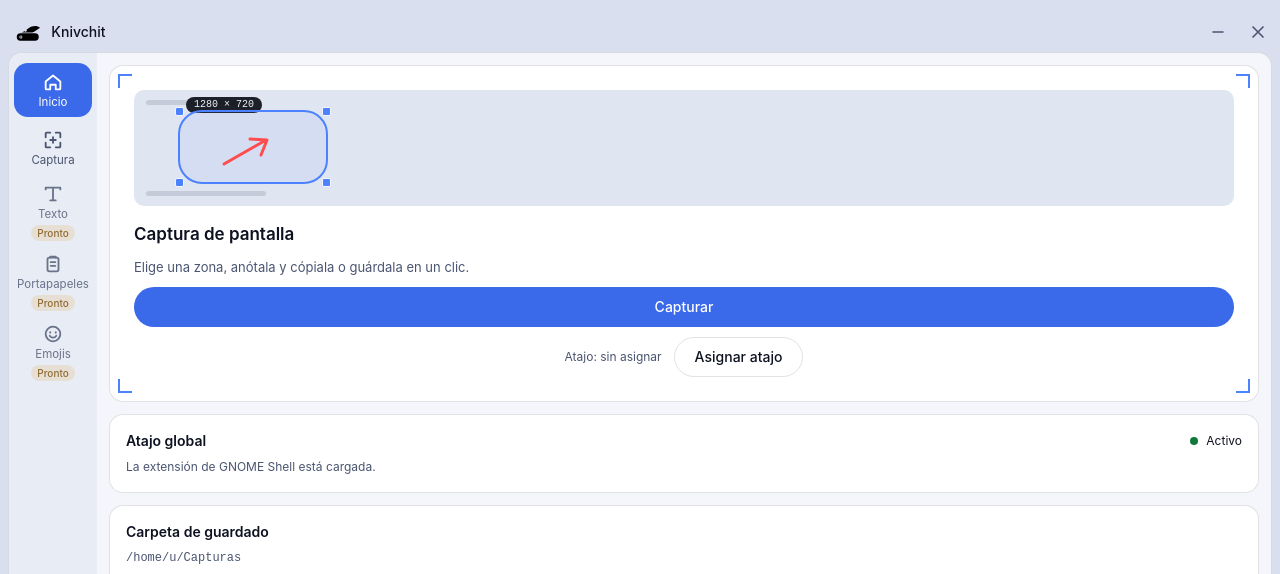
Test: permiso de captura — pulsar «Capturar» sin permiso › el rechazo «needs_permission» se explica con su aviso, no con el código
Click the button "Capturar": (684, 307) [134, 287, 1234, 327]
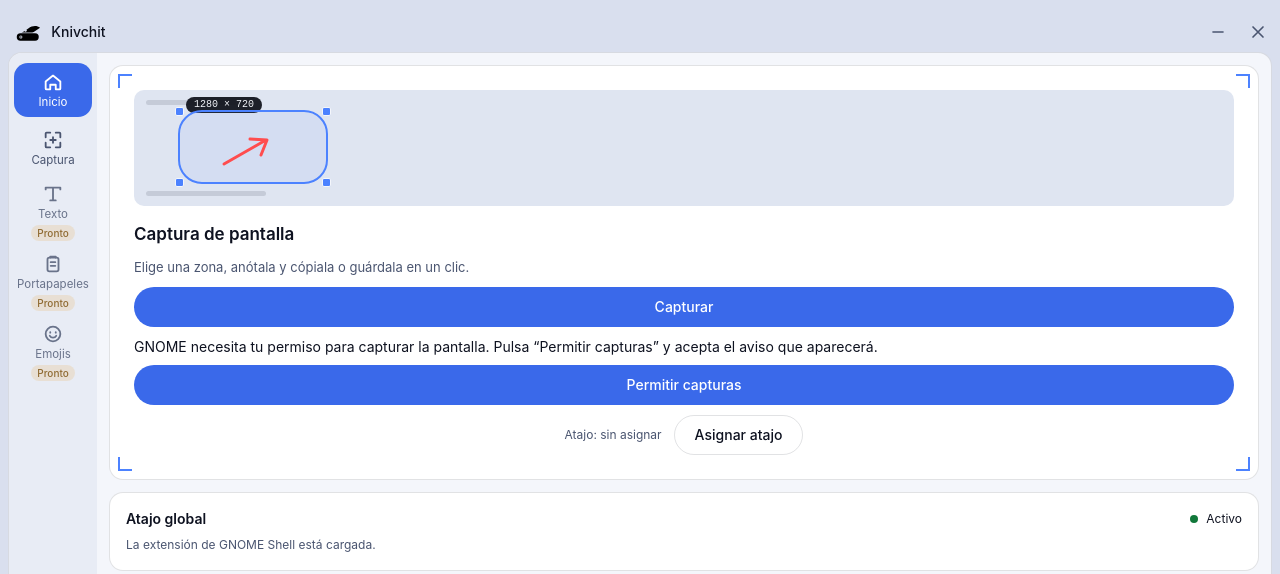
Expected: the text "GNOME necesita tu permiso para capturar la pantalla. Pulsa “Permitir capturas” y acepta el aviso que aparecerá." is shown, [134, 338, 878, 355]
